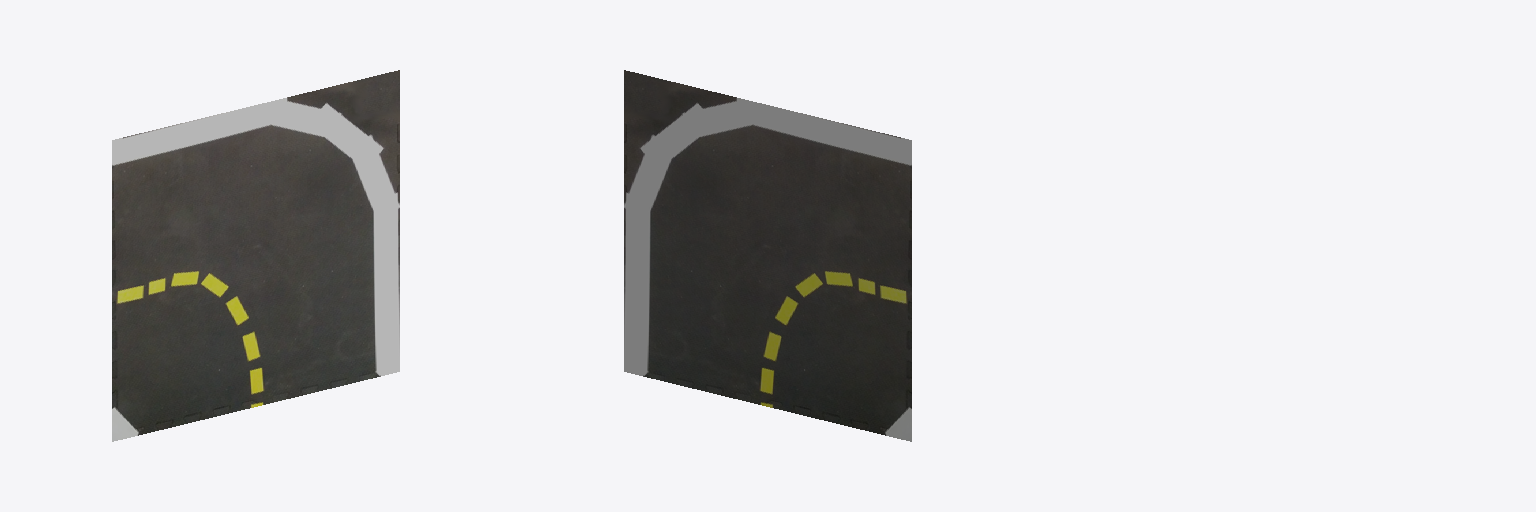
The picture shows the model from 3 angles: view 1: azimuth 30°, elevation 25°; view 2: azimuth 150°, elevation 25°; view 3: azimuth 270°, elevation 25°; orthographic projection.
Parts seen in each view (by area): view 1: Plane; view 2: Plane; view 3: none.
Boxes of the visible parts, x1=… form: Plane: x1=112, y1=70, x2=399, y2=441; Plane: x1=624, y1=70, x2=911, y2=441.
Bounding box in the file's own units: 2 × 2 × 0.
1 materials, 1 textured.